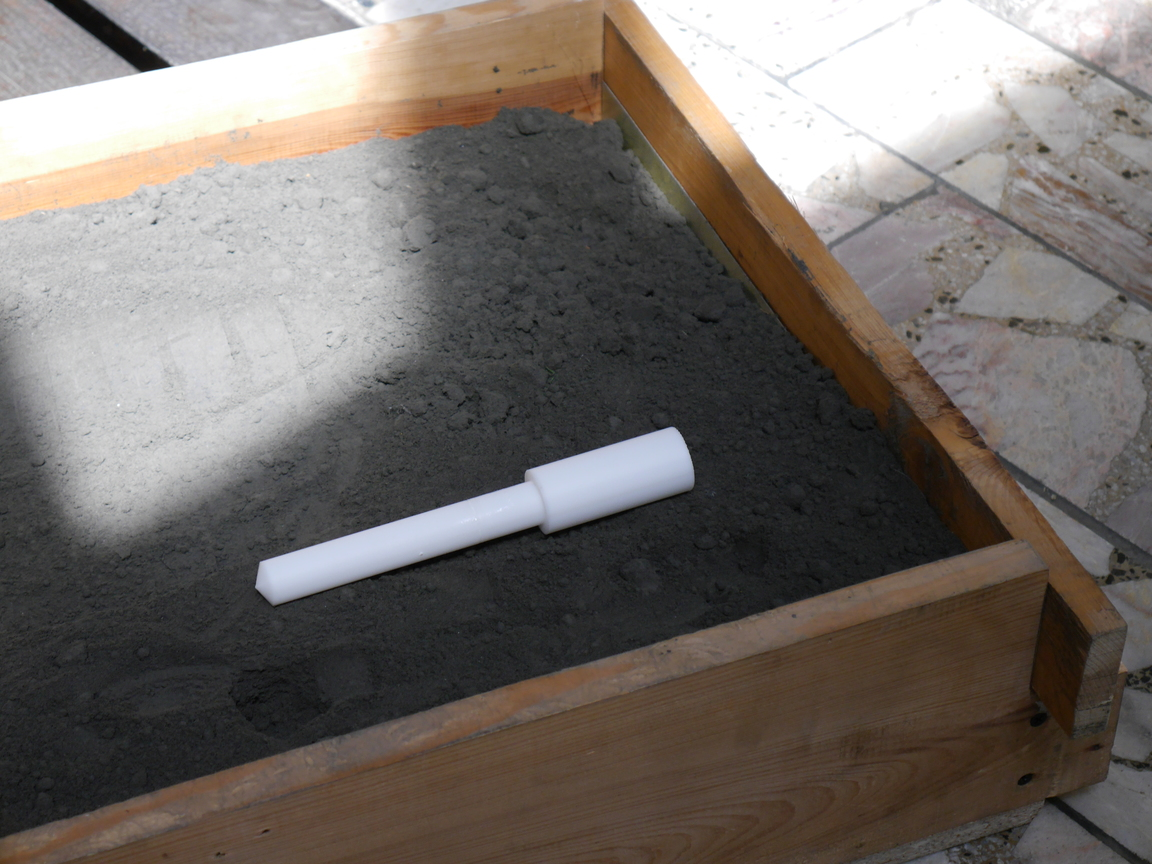cargo_g: (253, 422, 695, 606)
